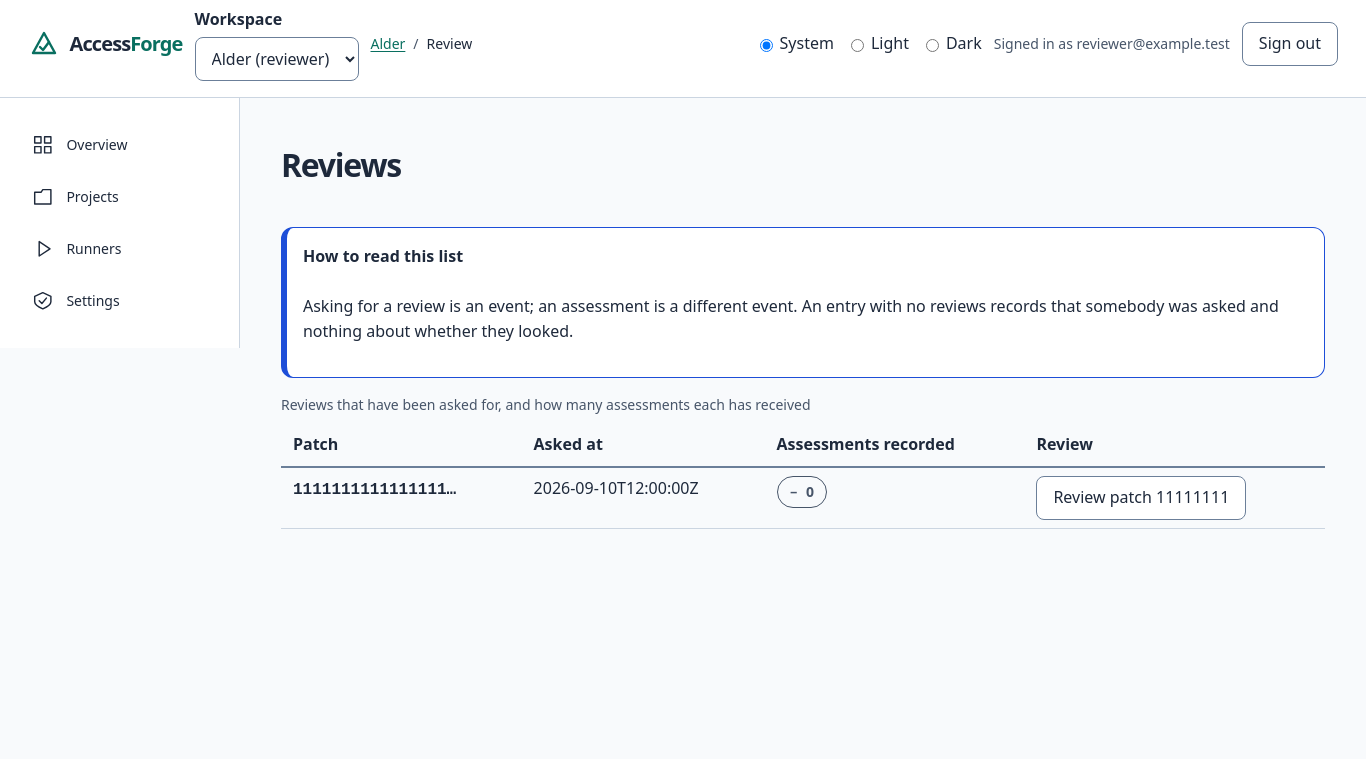
Scenario: the review form › asks nothing about who the reviewer is
Expected: the heading "Reviews" is shown, [281,143,401,186]
Step 1. Click the button "Review patch 11111111" → (1141,498), box [1036,476,1246,520]
(page scrolled)
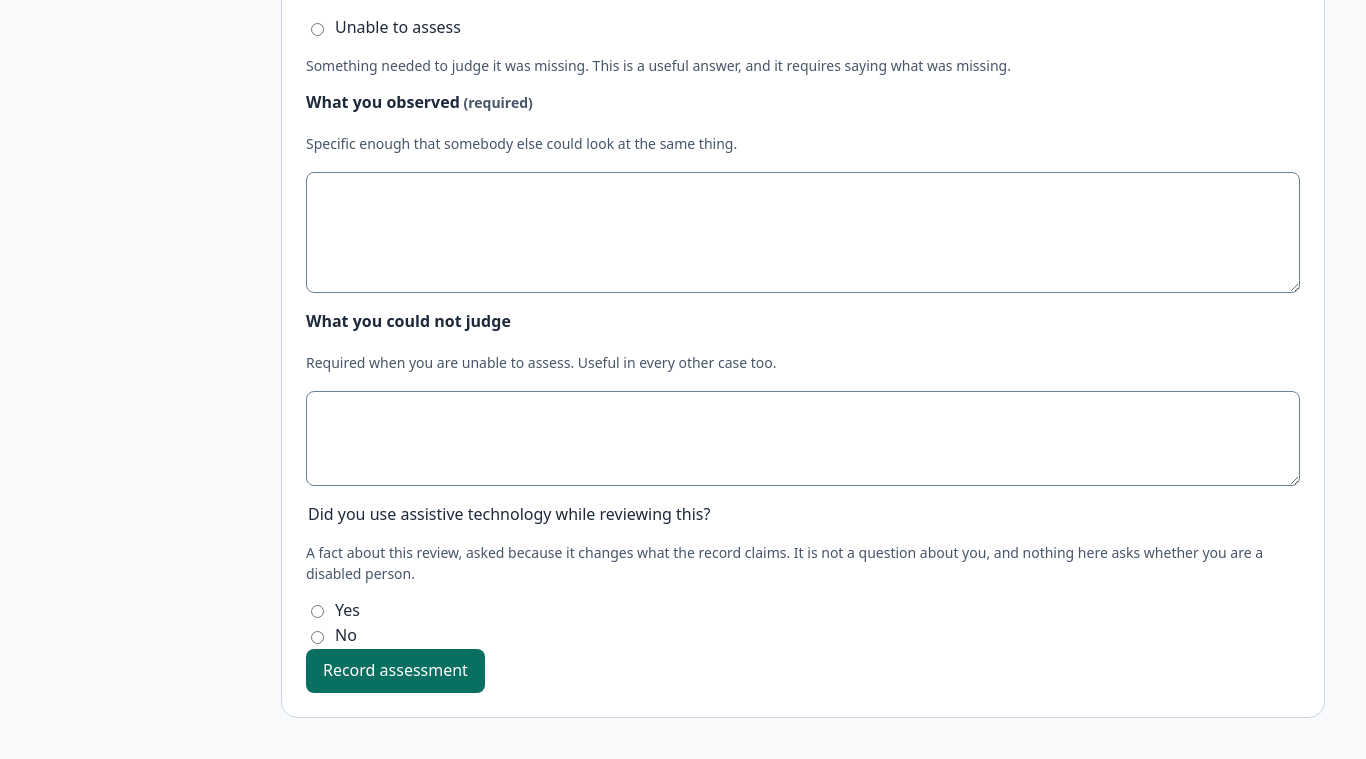
Now the element "assistive technology while reviewing" is shown, box [306,502,1300,649]
Now the text "not a question about you" is shown, box [306,542,1263,582]
